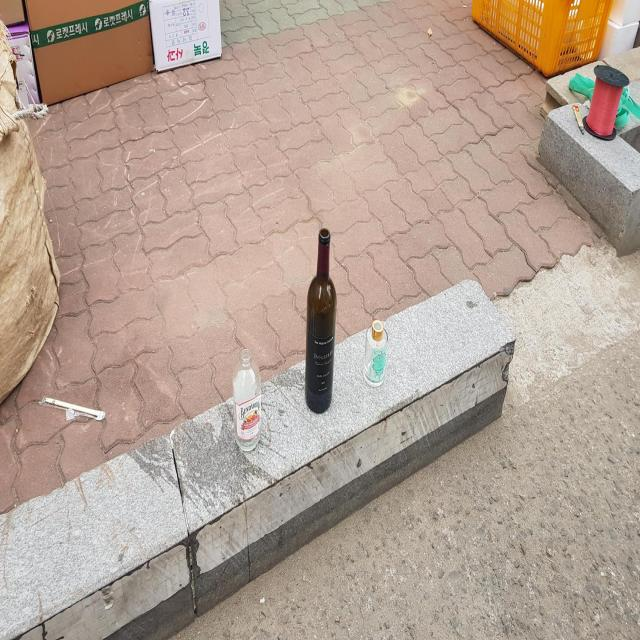glass: (305, 227, 337, 413), (233, 348, 261, 451), (364, 319, 388, 385)
